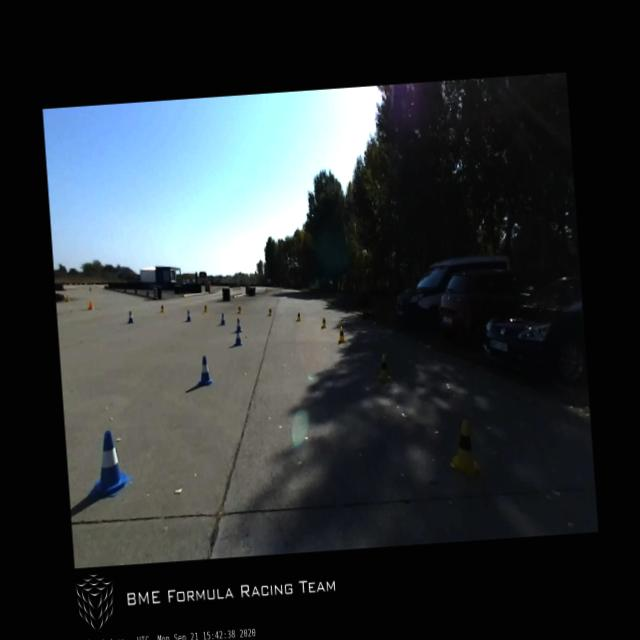blue_cone: (84, 428, 134, 499), (194, 354, 212, 387), (233, 328, 242, 347), (232, 316, 242, 332), (218, 312, 226, 325), (126, 311, 134, 323), (184, 310, 192, 320)
yellow_cone: (446, 420, 480, 480), (375, 352, 392, 383), (338, 325, 346, 343), (321, 316, 326, 328), (294, 311, 300, 321), (266, 307, 272, 316), (236, 306, 242, 314), (203, 304, 207, 313), (160, 304, 163, 313)
